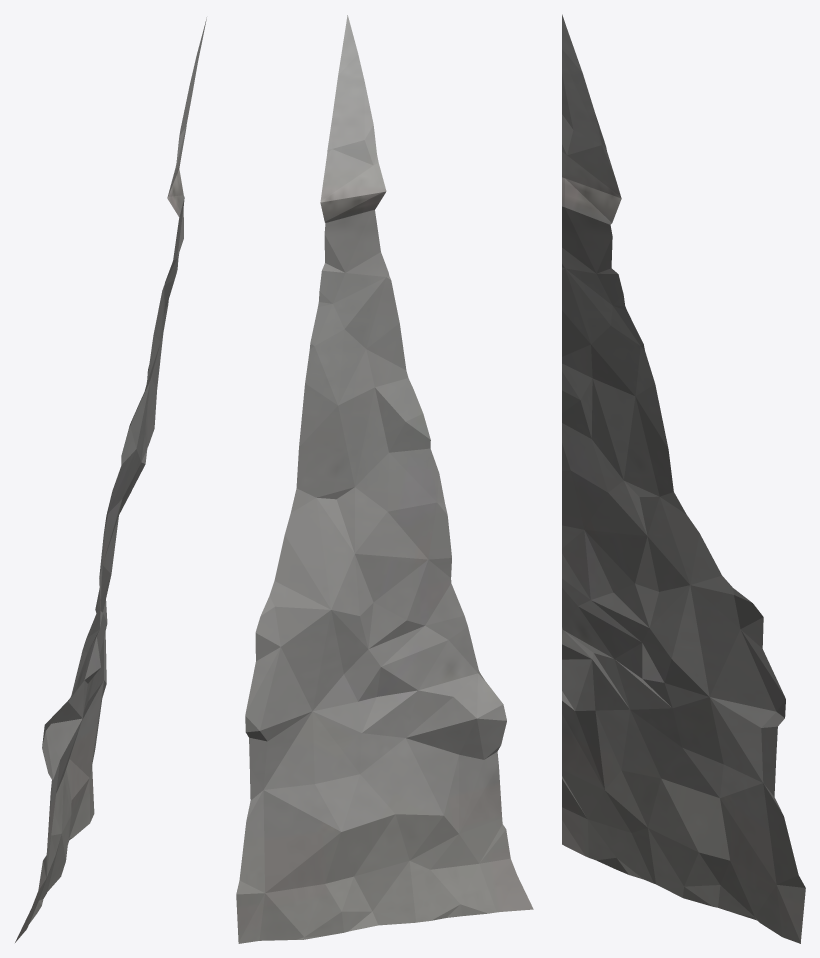
3 renders of one model, left to right at view 1: azimuth 30°, elevation 25°; view 2: azimuth 150°, elevation 25°; view 3: azimuth 270°, elevation 25°, orthographic. The views are drawn at different scales.
Bounding box in the file's own units: 0.1571 × 0.6855 × 0.1629.
Materials: 1 (1 with a texture image).
